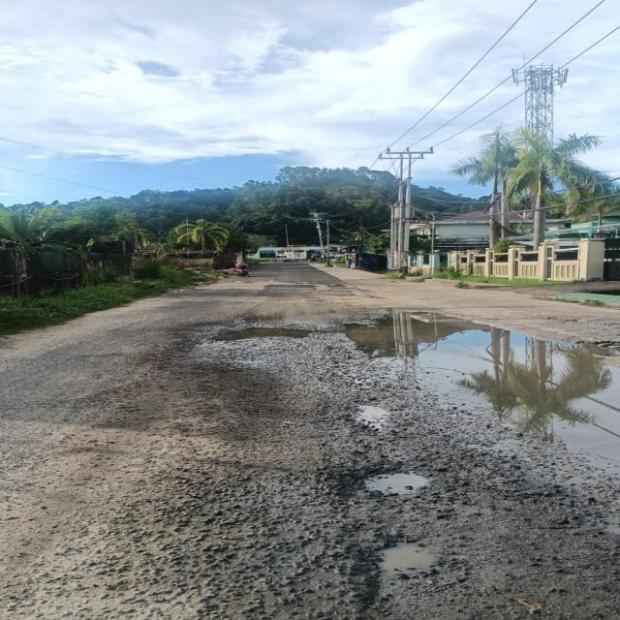lubang: (346, 311, 619, 475), (318, 450, 431, 500), (380, 541, 451, 587), (211, 326, 330, 348), (351, 404, 413, 434)
